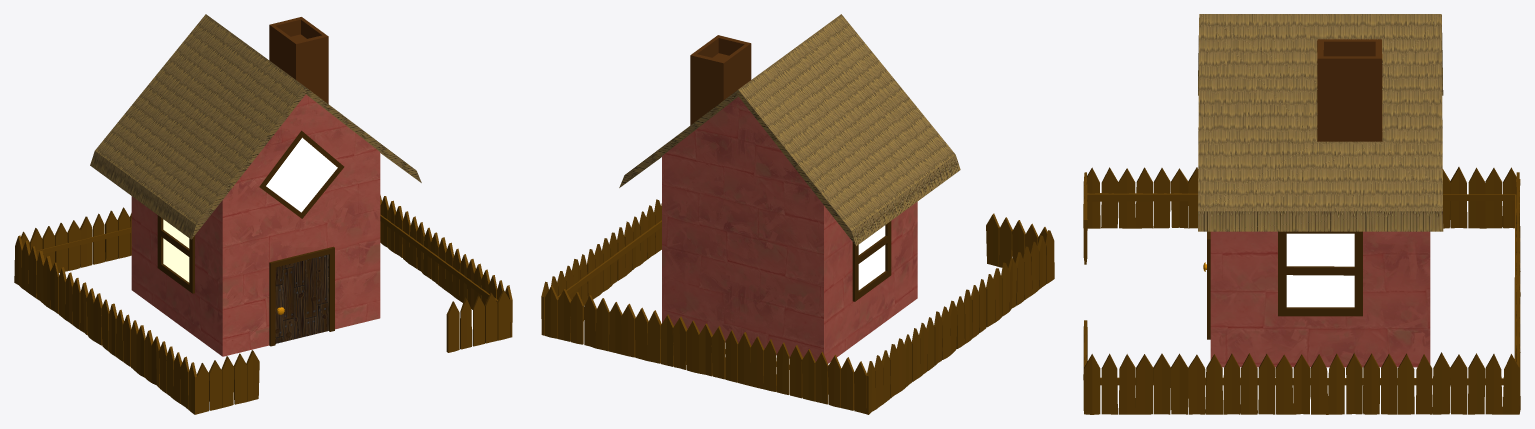
File: GrannyHouse.glb
3 renders of one model, left to right at view 1: azimuth 30°, elevation 25°; view 2: azimuth 150°, elevation 25°; view 3: azimuth 270°, elevation 25°, orthographic. The views are drawn at different scales.
Parts seen in each view (by area): view 1: Granny_house; view 2: Granny_house; view 3: Granny_house.
Boxes of the visible parts, box(x1,y1,x2,y2) form: Granny_house: box(14, 14, 512, 414); Granny_house: box(541, 14, 1054, 414); Granny_house: box(1083, 14, 1520, 414).
Size of what is drawn, in the model's own units: 4.06 by 3.08 by 3.98.
8 materials, 3 textured.
